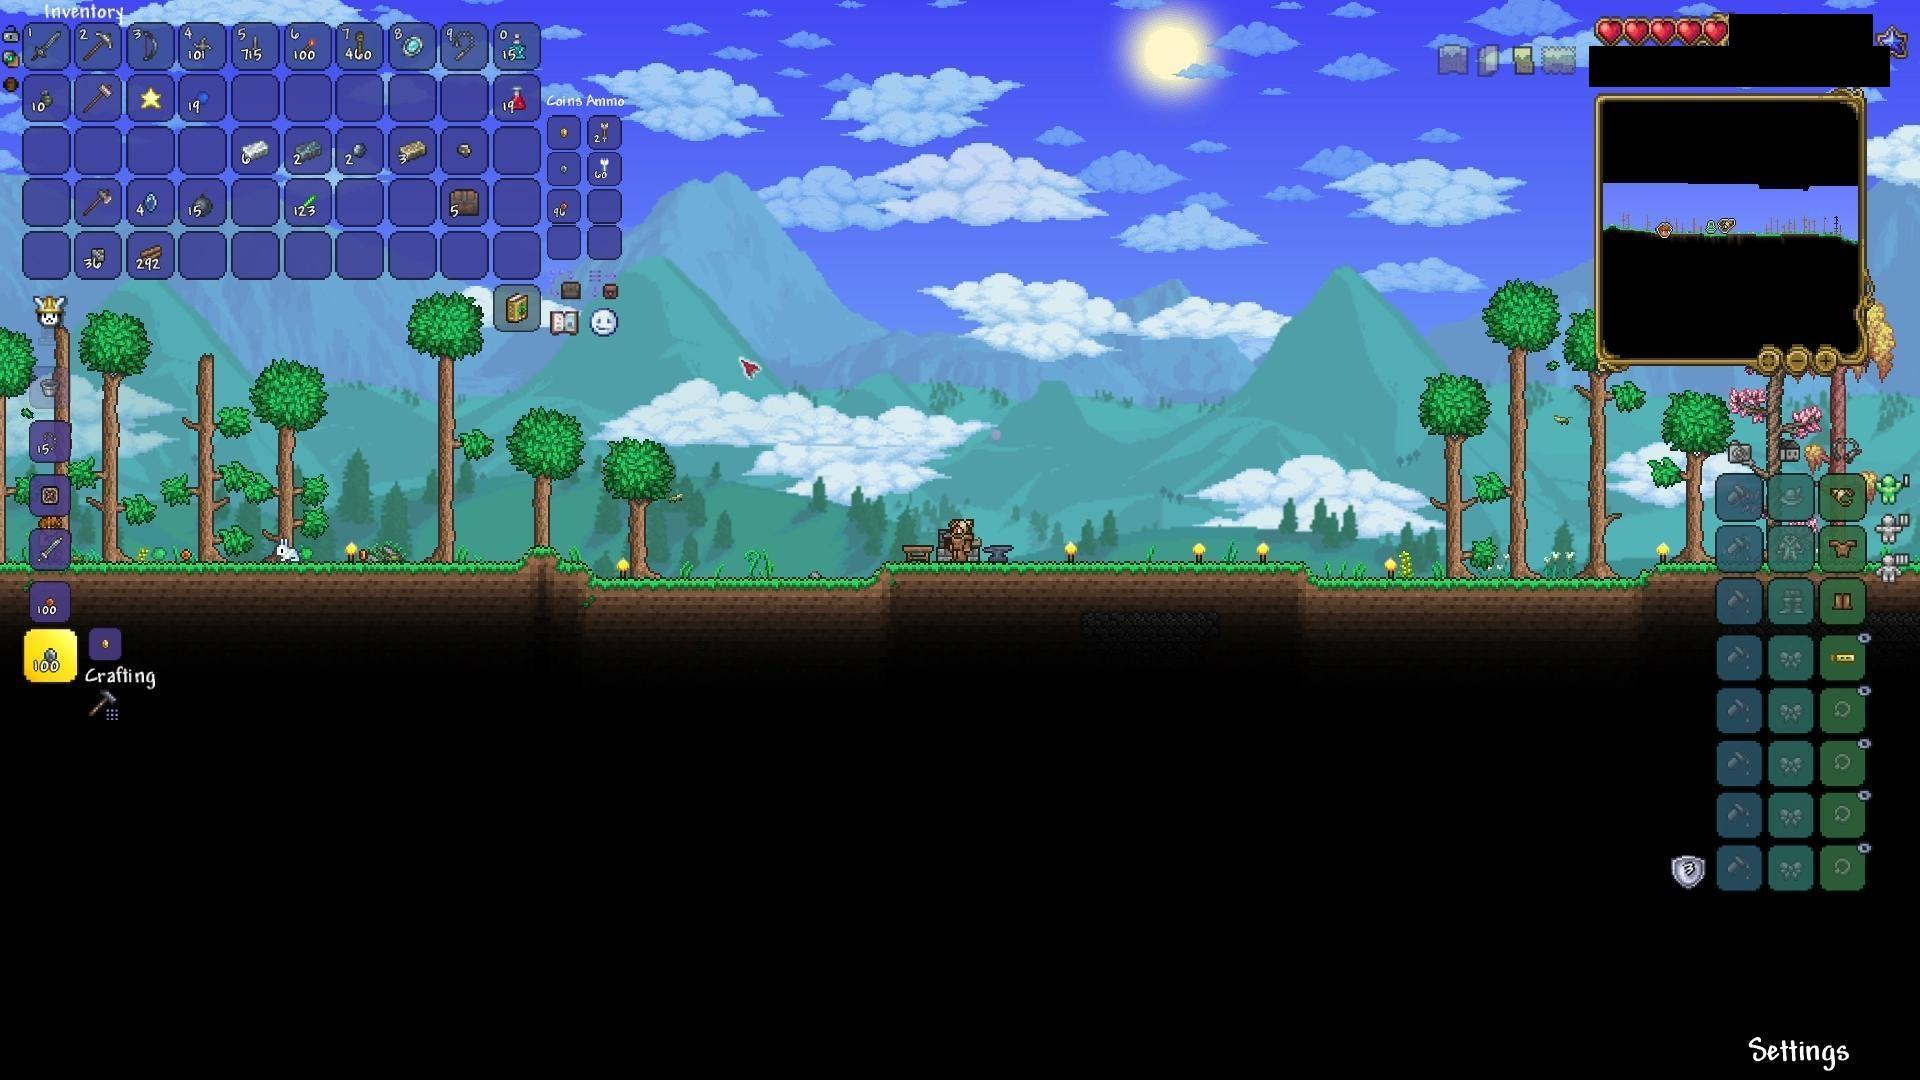dirt: (873, 556, 1324, 607), (76, 550, 549, 588), (555, 555, 887, 605), (1265, 567, 1652, 600)
heart: (1702, 17, 1733, 51), (1593, 16, 1626, 46), (1676, 15, 1704, 50), (1650, 16, 1676, 49), (1625, 15, 1651, 44)
tree: (1495, 278, 1547, 580), (410, 286, 463, 571), (1571, 318, 1627, 580), (1423, 359, 1485, 587), (253, 342, 309, 571), (88, 311, 131, 568), (509, 398, 574, 546), (1658, 393, 1710, 568), (615, 439, 667, 576), (194, 348, 223, 563)
